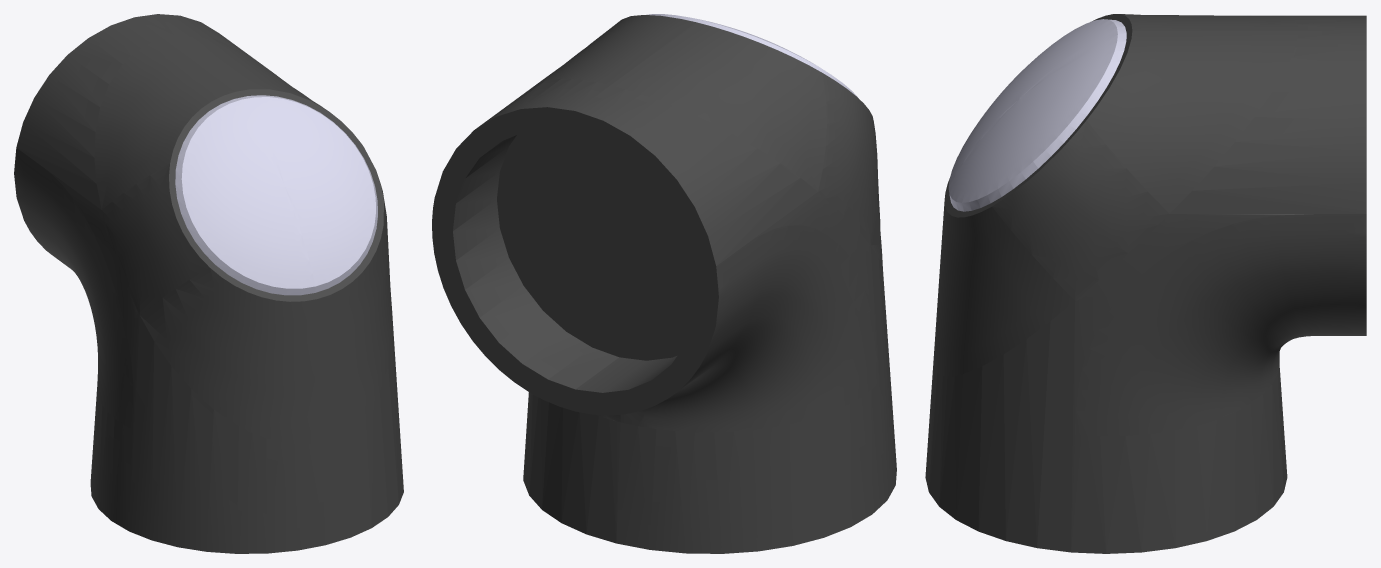
3 renders of one model, left to right at view 1: azimuth 30°, elevation 25°; view 2: azimuth 150°, elevation 25°; view 3: azimuth 270°, elevation 25°, orthographic. The views are drawn at different scales.
Parts seen in each view (by area): view 1: mesh; view 2: mesh; view 3: mesh.
Boxes of the visible parts, left/top/right/bottom form: mesh: left=14, top=14, right=403, bottom=553; mesh: left=432, top=14, right=896, bottom=553; mesh: left=925, top=14, right=1366, bottom=553.
Size of the model in its own units: 0.0927 by 0.1129 by 0.1312.
